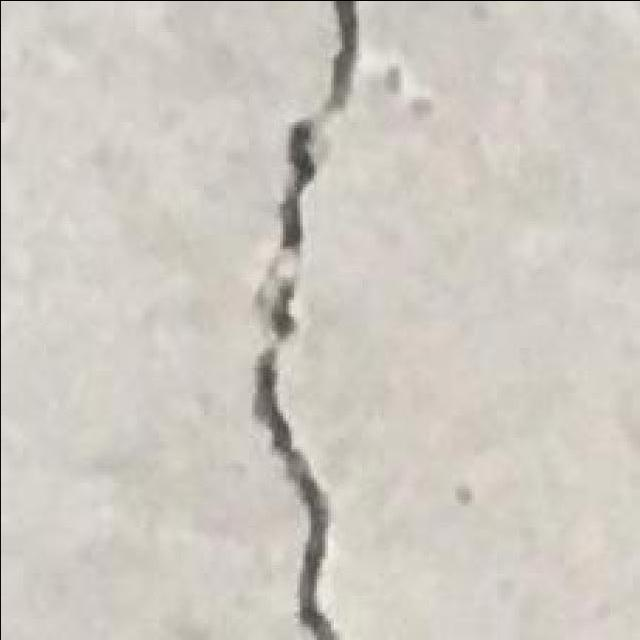crack: (249, 1, 361, 638)
